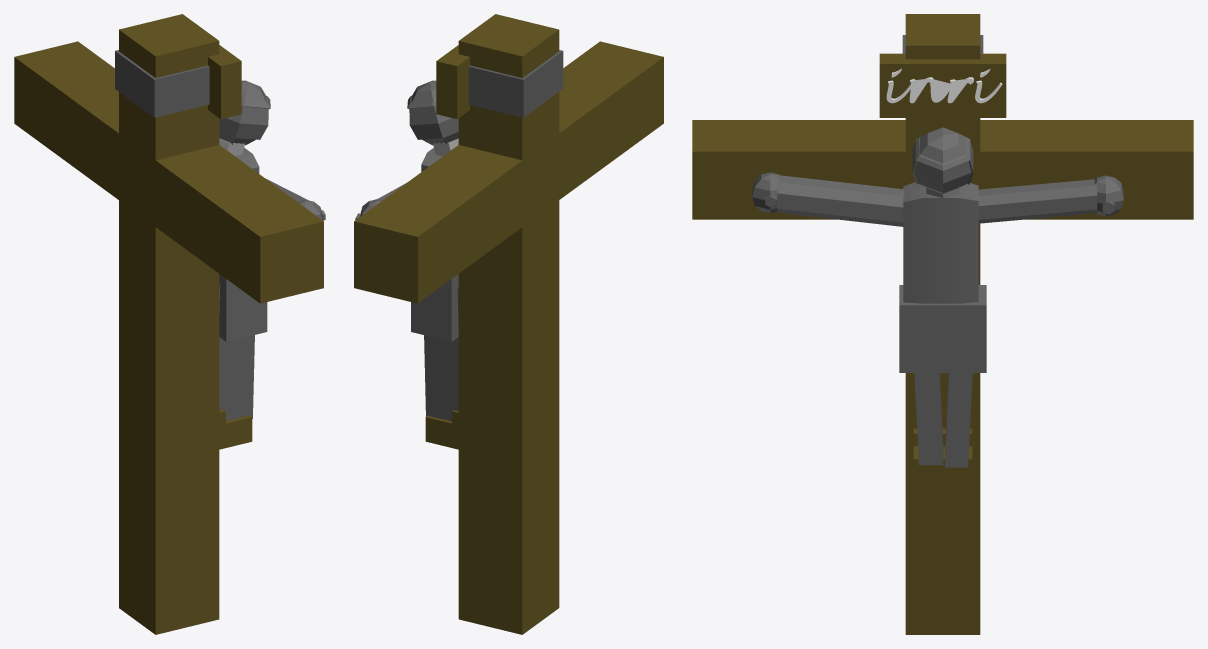
The model's file is Crucifix.fbx.
3 views of the same model, side by side, from view 1: azimuth 30°, elevation 25°; view 2: azimuth 150°, elevation 25°; view 3: azimuth 270°, elevation 25° (orthographic).
Parts seen in each view (by area): view 1: pCube1, pCube2, pCube11, pCube6, pCube9, pCube8, pSphere1, pCube10; view 2: pCube1, pCube2, pCube11, pCube7, pCube9, pCube8, pSphere1, pCube10; view 3: pCube2, pCube1, pCube3, pCube8, pCube9, pCube4, pCube5, pSphere1, pCube6, pCube7, pCube10, typeMesh1 (+2 smaller).
Part boxes in pixels (left/top/right/bottom): pCube1: left=119, top=14, right=219, bottom=634; pCube2: left=14, top=41, right=323, bottom=303; pCube11: left=115, top=50, right=209, bottom=117; pCube6: left=219, top=285, right=254, bottom=420; pCube9: left=219, top=274, right=267, bottom=341; pCube8: left=208, top=45, right=241, bottom=119; pSphere1: left=219, top=80, right=268, bottom=145; pCube10: left=219, top=409, right=252, bottom=449; pCube1: left=458, top=14, right=559, bottom=634; pCube2: left=354, top=41, right=663, bottom=303; pCube11: left=468, top=50, right=563, bottom=117; pCube7: left=424, top=287, right=458, bottom=421; pCube9: left=411, top=274, right=458, bottom=341; pCube8: left=436, top=45, right=469, bottom=119; pSphere1: left=409, top=80, right=458, bottom=145; pCube10: left=425, top=410, right=458, bottom=449; pCube2: left=692, top=120, right=1193, bottom=219; pCube1: left=905, top=14, right=980, bottom=634; pCube3: left=903, top=182, right=978, bottom=303; pCube8: left=879, top=53, right=1006, bottom=117; pCube9: left=899, top=285, right=986, bottom=372; pCube4: left=777, top=175, right=904, bottom=226; pCube5: left=978, top=179, right=1097, bottom=223; pSphere1: left=912, top=127, right=973, bottom=193; pCube6: left=914, top=373, right=943, bottom=465; pCube7: left=945, top=373, right=972, bottom=467; pCube10: left=913, top=428, right=972, bottom=484; typeMesh1: left=886, top=68, right=1002, bottom=103.
Bounding box in the file's own units: 2.13 × 8.67 × 6.68.
